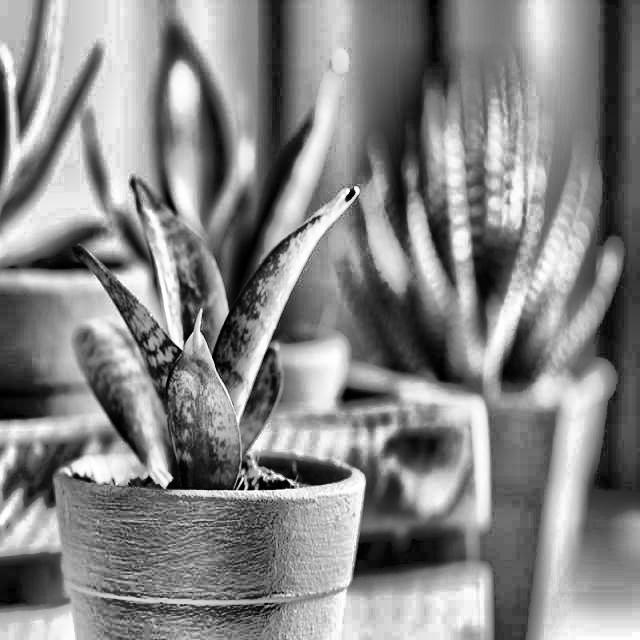plants: (364, 56, 614, 627), (73, 182, 348, 633)
